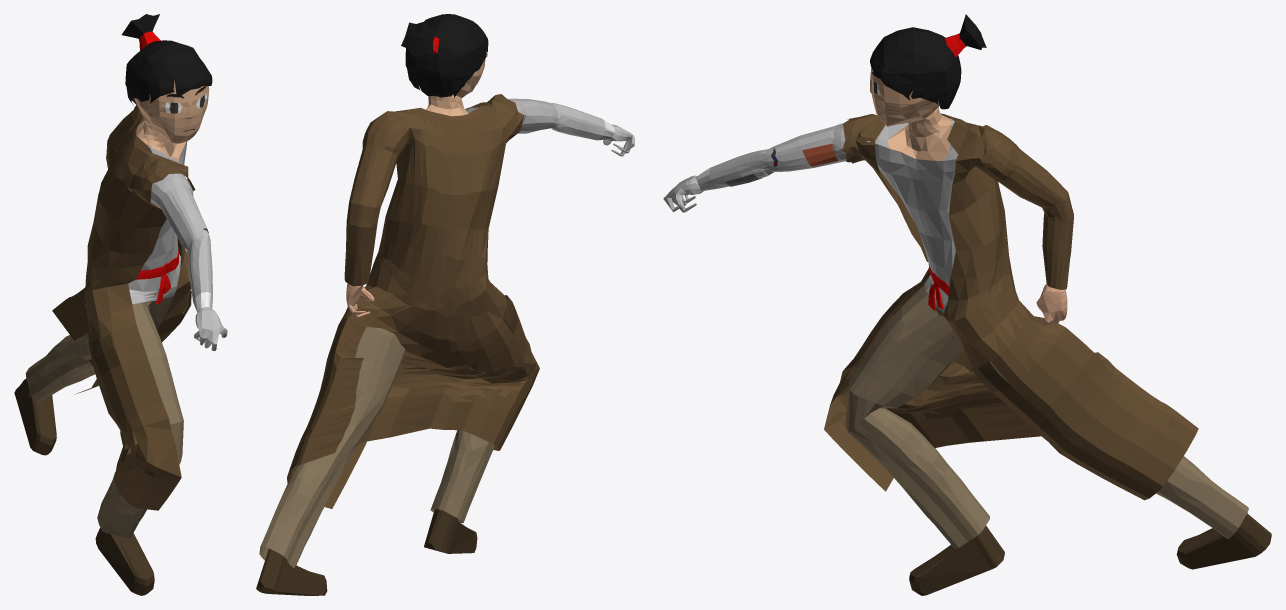
The model's file is OneAnimationTest_000013.obj.
The picture shows the model from 3 angles, left to right: view 1: azimuth 30°, elevation 25°; view 2: azimuth 150°, elevation 25°; view 3: azimuth 270°, elevation 25°; orthographic projection. The views are drawn at different scales.
Visible parts, largest first — view 1: Jacket_Cube, Body_Cube.003, Hair_Cube.004; view 2: Jacket_Cube, Body_Cube.003, Hair_Cube.004; view 3: Jacket_Cube, Body_Cube.003, Hair_Cube.004.
Boxes of the visible parts, left/top/right/bottom form: Jacket_Cube: left=52, top=105, right=195, bottom=510; Body_Cube.003: left=14, top=80, right=227, bottom=595; Hair_Cube.004: left=121, top=14, right=212, bottom=106; Jacket_Cube: left=287, top=94, right=539, bottom=508; Body_Cube.003: left=256, top=59, right=634, bottom=595; Hair_Cube.004: left=401, top=14, right=488, bottom=97; Jacket_Cube: left=824, top=113, right=1198, bottom=500; Body_Cube.003: left=663, top=68, right=1271, bottom=595; Hair_Cube.004: left=870, top=14, right=986, bottom=109.
Bounding box in the file's own units: 0.9855 × 3.63 × 3.41.
